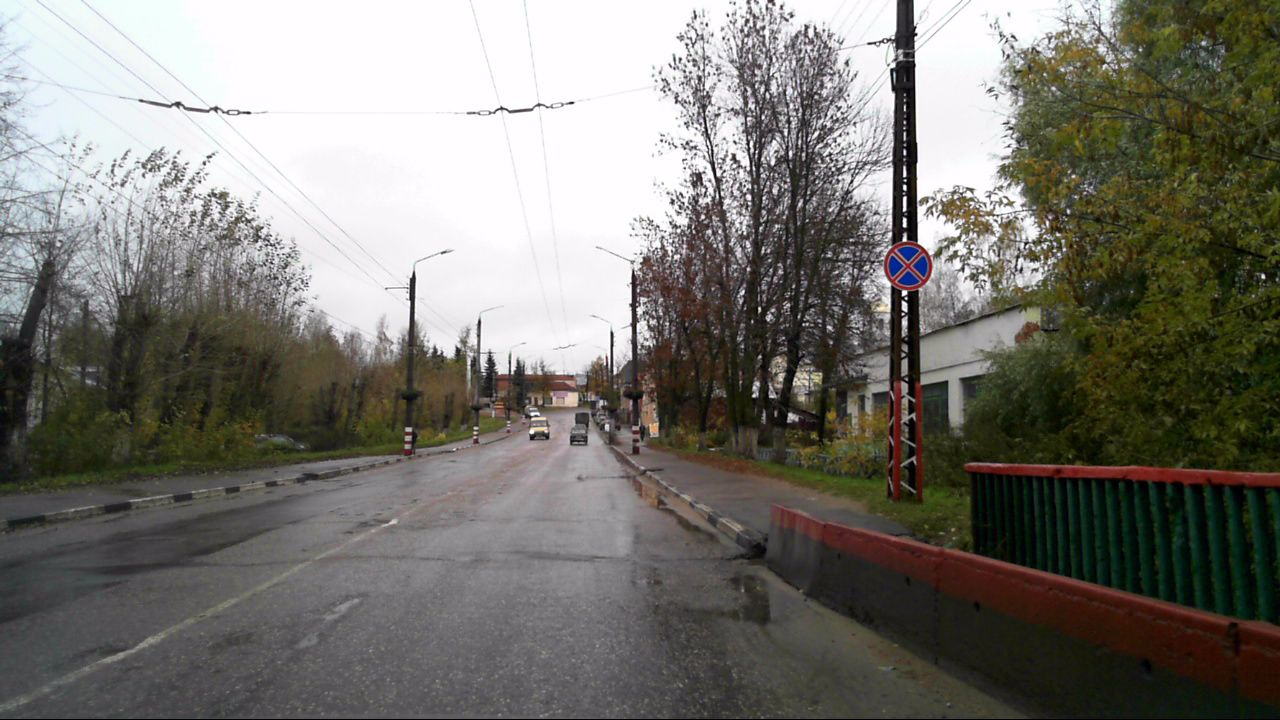No Parking: (882, 240, 935, 293)
